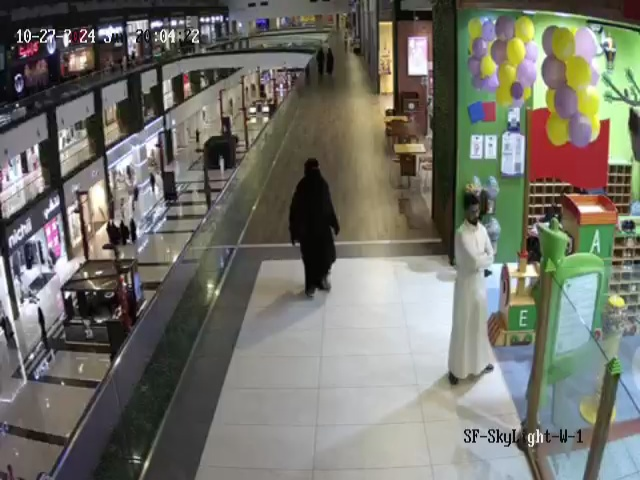female: (288, 158, 340, 299), (139, 161, 168, 201), (31, 304, 54, 346), (1, 307, 21, 355), (324, 38, 344, 85), (311, 33, 323, 93), (106, 214, 118, 250), (128, 215, 141, 248), (118, 215, 126, 249)
male: (447, 191, 496, 386), (214, 151, 232, 180)
